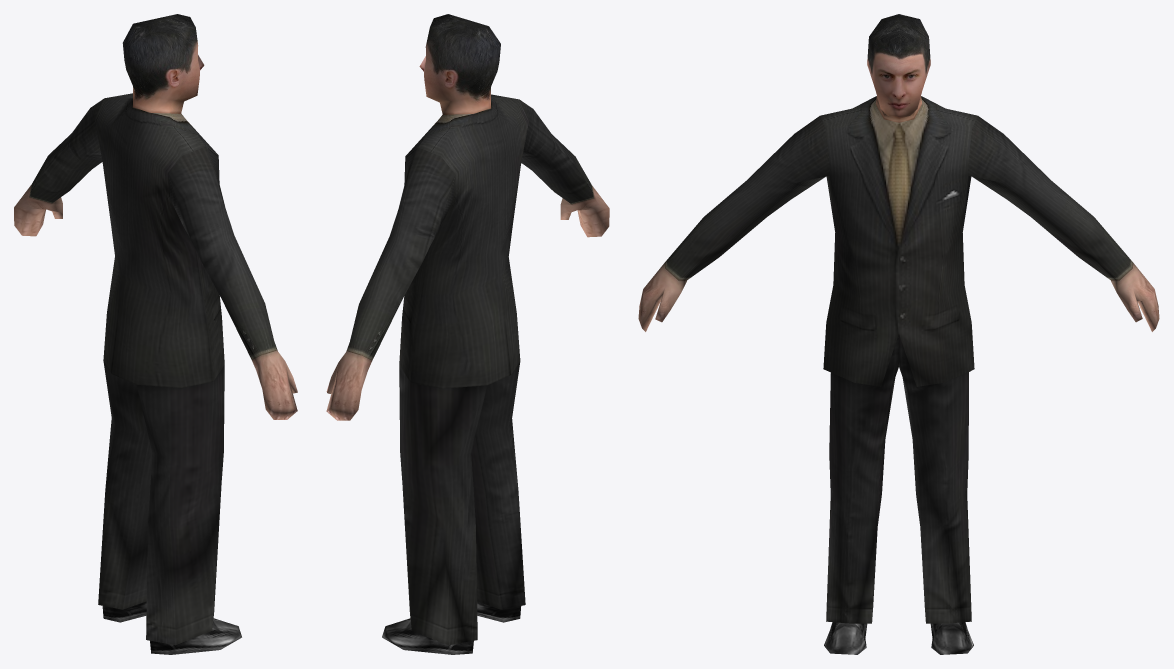
File: Man01.obj
The picture shows the model from 3 angles, left to right: view 1: azimuth 30°, elevation 25°; view 2: azimuth 150°, elevation 25°; view 3: azimuth 270°, elevation 25°; orthographic projection.
Size of the model in its own units: 0.3092 by 1.82 by 1.4.
1 material, 1 textured.
